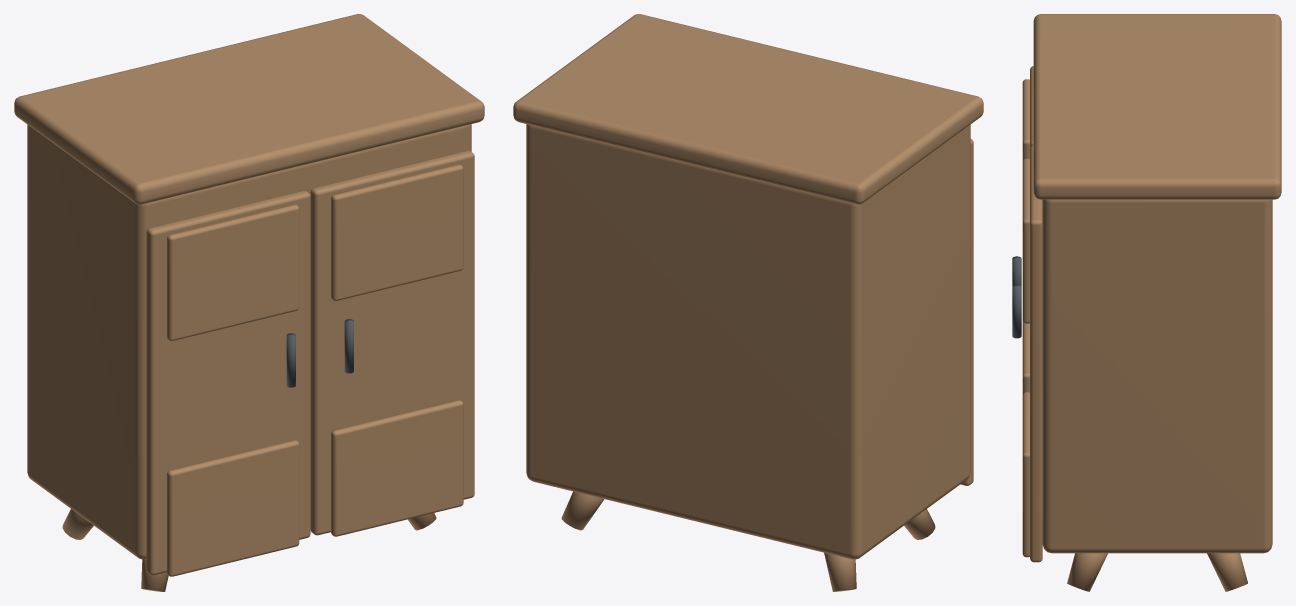
The model's file is atelier-kitchen-base-cabinet.glb.
3 renders of one model, left to right at view 1: azimuth 30°, elevation 25°; view 2: azimuth 150°, elevation 25°; view 3: azimuth 270°, elevation 25°, orthographic.
Parts seen in each view (by area): view 1: legs.099, metal.040; view 2: legs.099; view 3: legs.099, metal.040.
Boxes of the visible parts, <box> form: legs.099: <box>14,14,484,591</box>; metal.040: <box>286,319,353,387</box>; legs.099: <box>513,14,983,591</box>; legs.099: <box>1022,14,1281,591</box>; metal.040: <box>1012,256,1021,338</box>.
Bounding box in the file's own units: 0.785 × 0.9293 × 0.5265.
